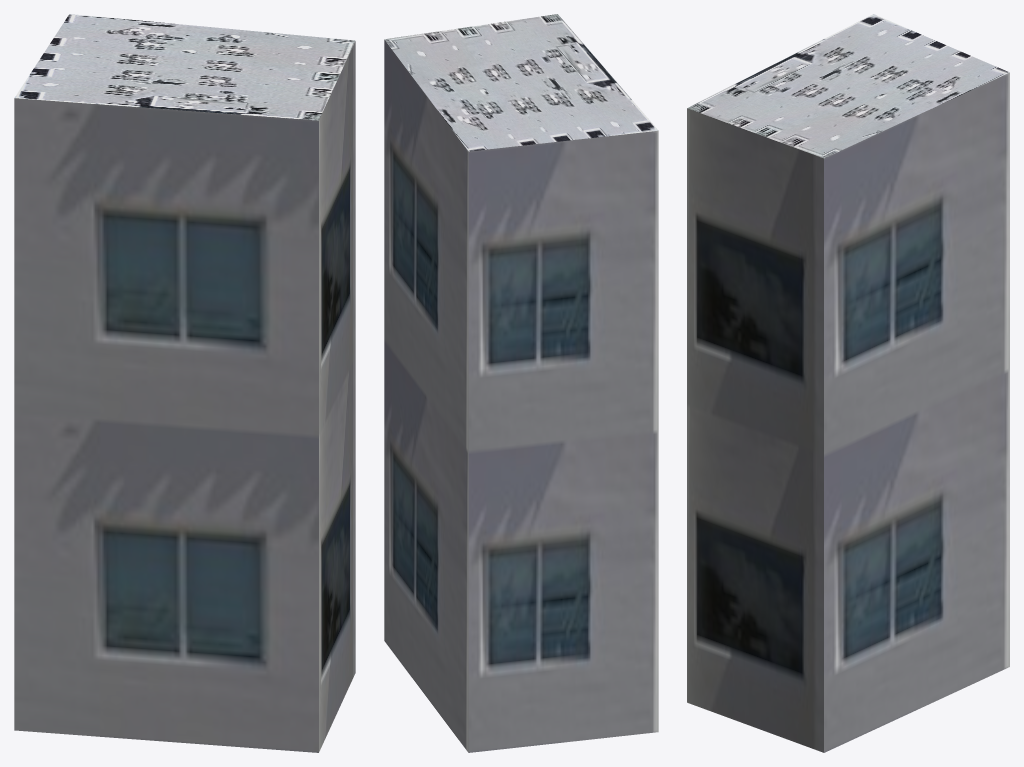
Rendered from ResTex__1709.fbx.
The picture shows the model from 3 angles, left to right: view 1: azimuth 30°, elevation 25°; view 2: azimuth 150°, elevation 25°; view 3: azimuth 270°, elevation 25°; orthographic projection. The views are drawn at different scales.
Parts seen in each view (by area): view 1: CityEngineMaterial_10_m, CityEngineMaterial_4_m; view 2: CityEngineMaterial_10_m, CityEngineMaterial_4_m; view 3: CityEngineMaterial_10_m, CityEngineMaterial_4_m.
Part boxes in pixels (x1,y1,x2,y2): CityEngineMaterial_10_m: (14, 41, 355, 752); CityEngineMaterial_4_m: (14, 14, 355, 120); CityEngineMaterial_10_m: (384, 40, 658, 752); CityEngineMaterial_4_m: (384, 14, 658, 151); CityEngineMaterial_10_m: (687, 72, 1009, 752); CityEngineMaterial_4_m: (687, 14, 1009, 158).
Bounding box in the file's own units: 3.13 × 6 × 2.95.
2 materials, 2 textured.
